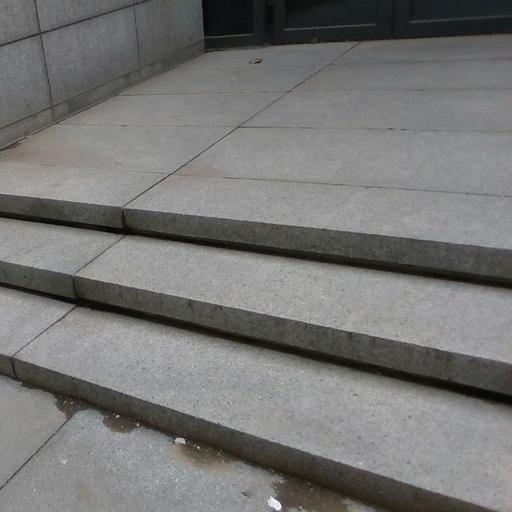Stairs: (0, 194, 512, 512), (272, 241, 512, 290)
